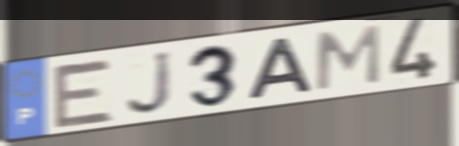3: (187, 41, 245, 112)
4: (387, 14, 440, 83)
A: (246, 34, 318, 103)
E: (50, 57, 117, 131)
J: (124, 48, 176, 117)
M: (313, 22, 383, 93)
